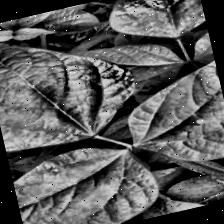Bean Rust: (9, 132, 161, 224), (115, 57, 224, 180), (106, 0, 209, 56)
